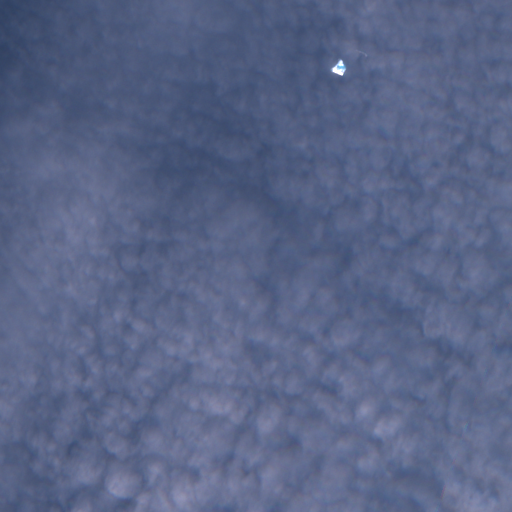Iceberg: (331, 60, 345, 75)
